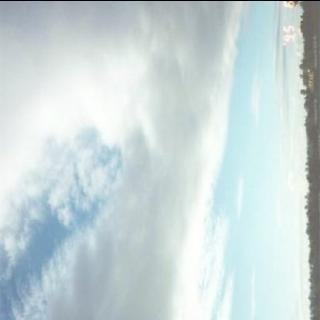Stratocumulus: (0, 0, 309, 320)
